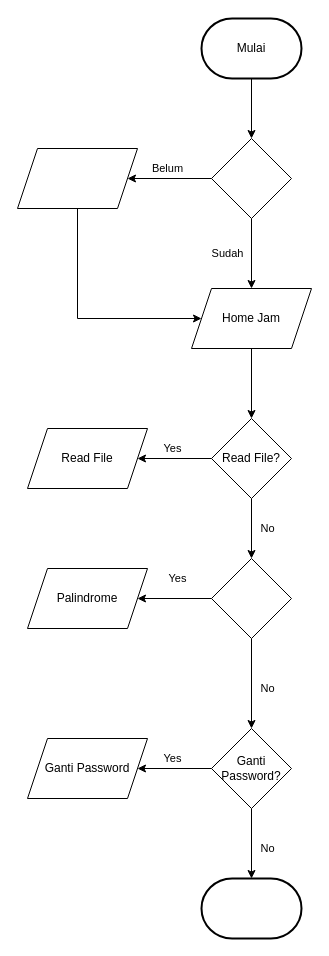
Some shapes in this 329 by 956 pixel diagram are drawn without their labels. Each missing label, with the centre of its shape:
"Login" goes at (x=77, y=178).
"Palindrome?" goes at (x=251, y=598).
"Selesai" goes at (x=251, y=908).
"Sudah Login?" goes at (x=251, y=178).
